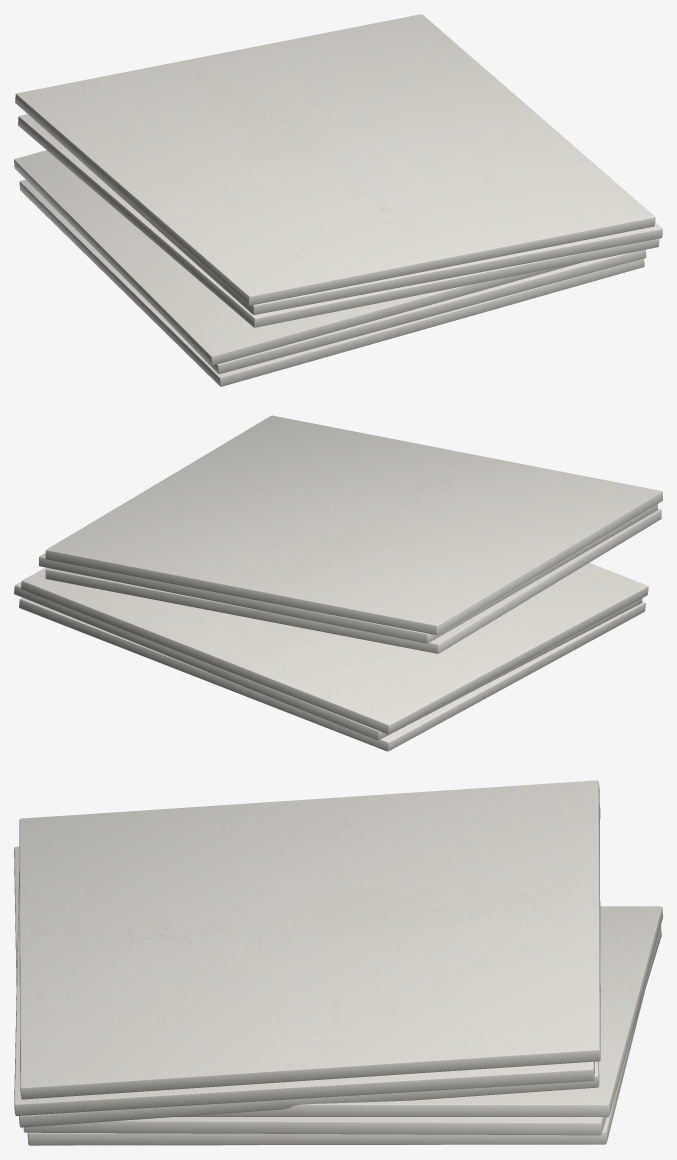
The model's file is REV-FOR-003_anim.glb.
3 views of the same model, one above another, from view 1: azimuth 30°, elevation 25°; view 2: azimuth 150°, elevation 25°; view 3: azimuth 270°, elevation 25° (orthographic). The views are drawn at different scales.
Visible parts, largest first — view 1: REV-FOR-003_anim1, REV-FOR-003_anim0; view 2: REV-FOR-003_anim1, REV-FOR-003_anim0; view 3: REV-FOR-003_anim1, REV-FOR-003_anim0.
Part boxes in pixels (<box>): REV-FOR-003_anim1: <box>15,14,662,327</box>; REV-FOR-003_anim0: <box>14,150,646,386</box>; REV-FOR-003_anim1: <box>39,415,662,653</box>; REV-FOR-003_anim0: <box>14,562,648,751</box>; REV-FOR-003_anim1: <box>14,780,600,1127</box>; REV-FOR-003_anim0: <box>23,906,662,1145</box>.
Bounding box in the file's own units: 0.6923 × 0.2027 × 0.6977.
1 material, 1 textured.
